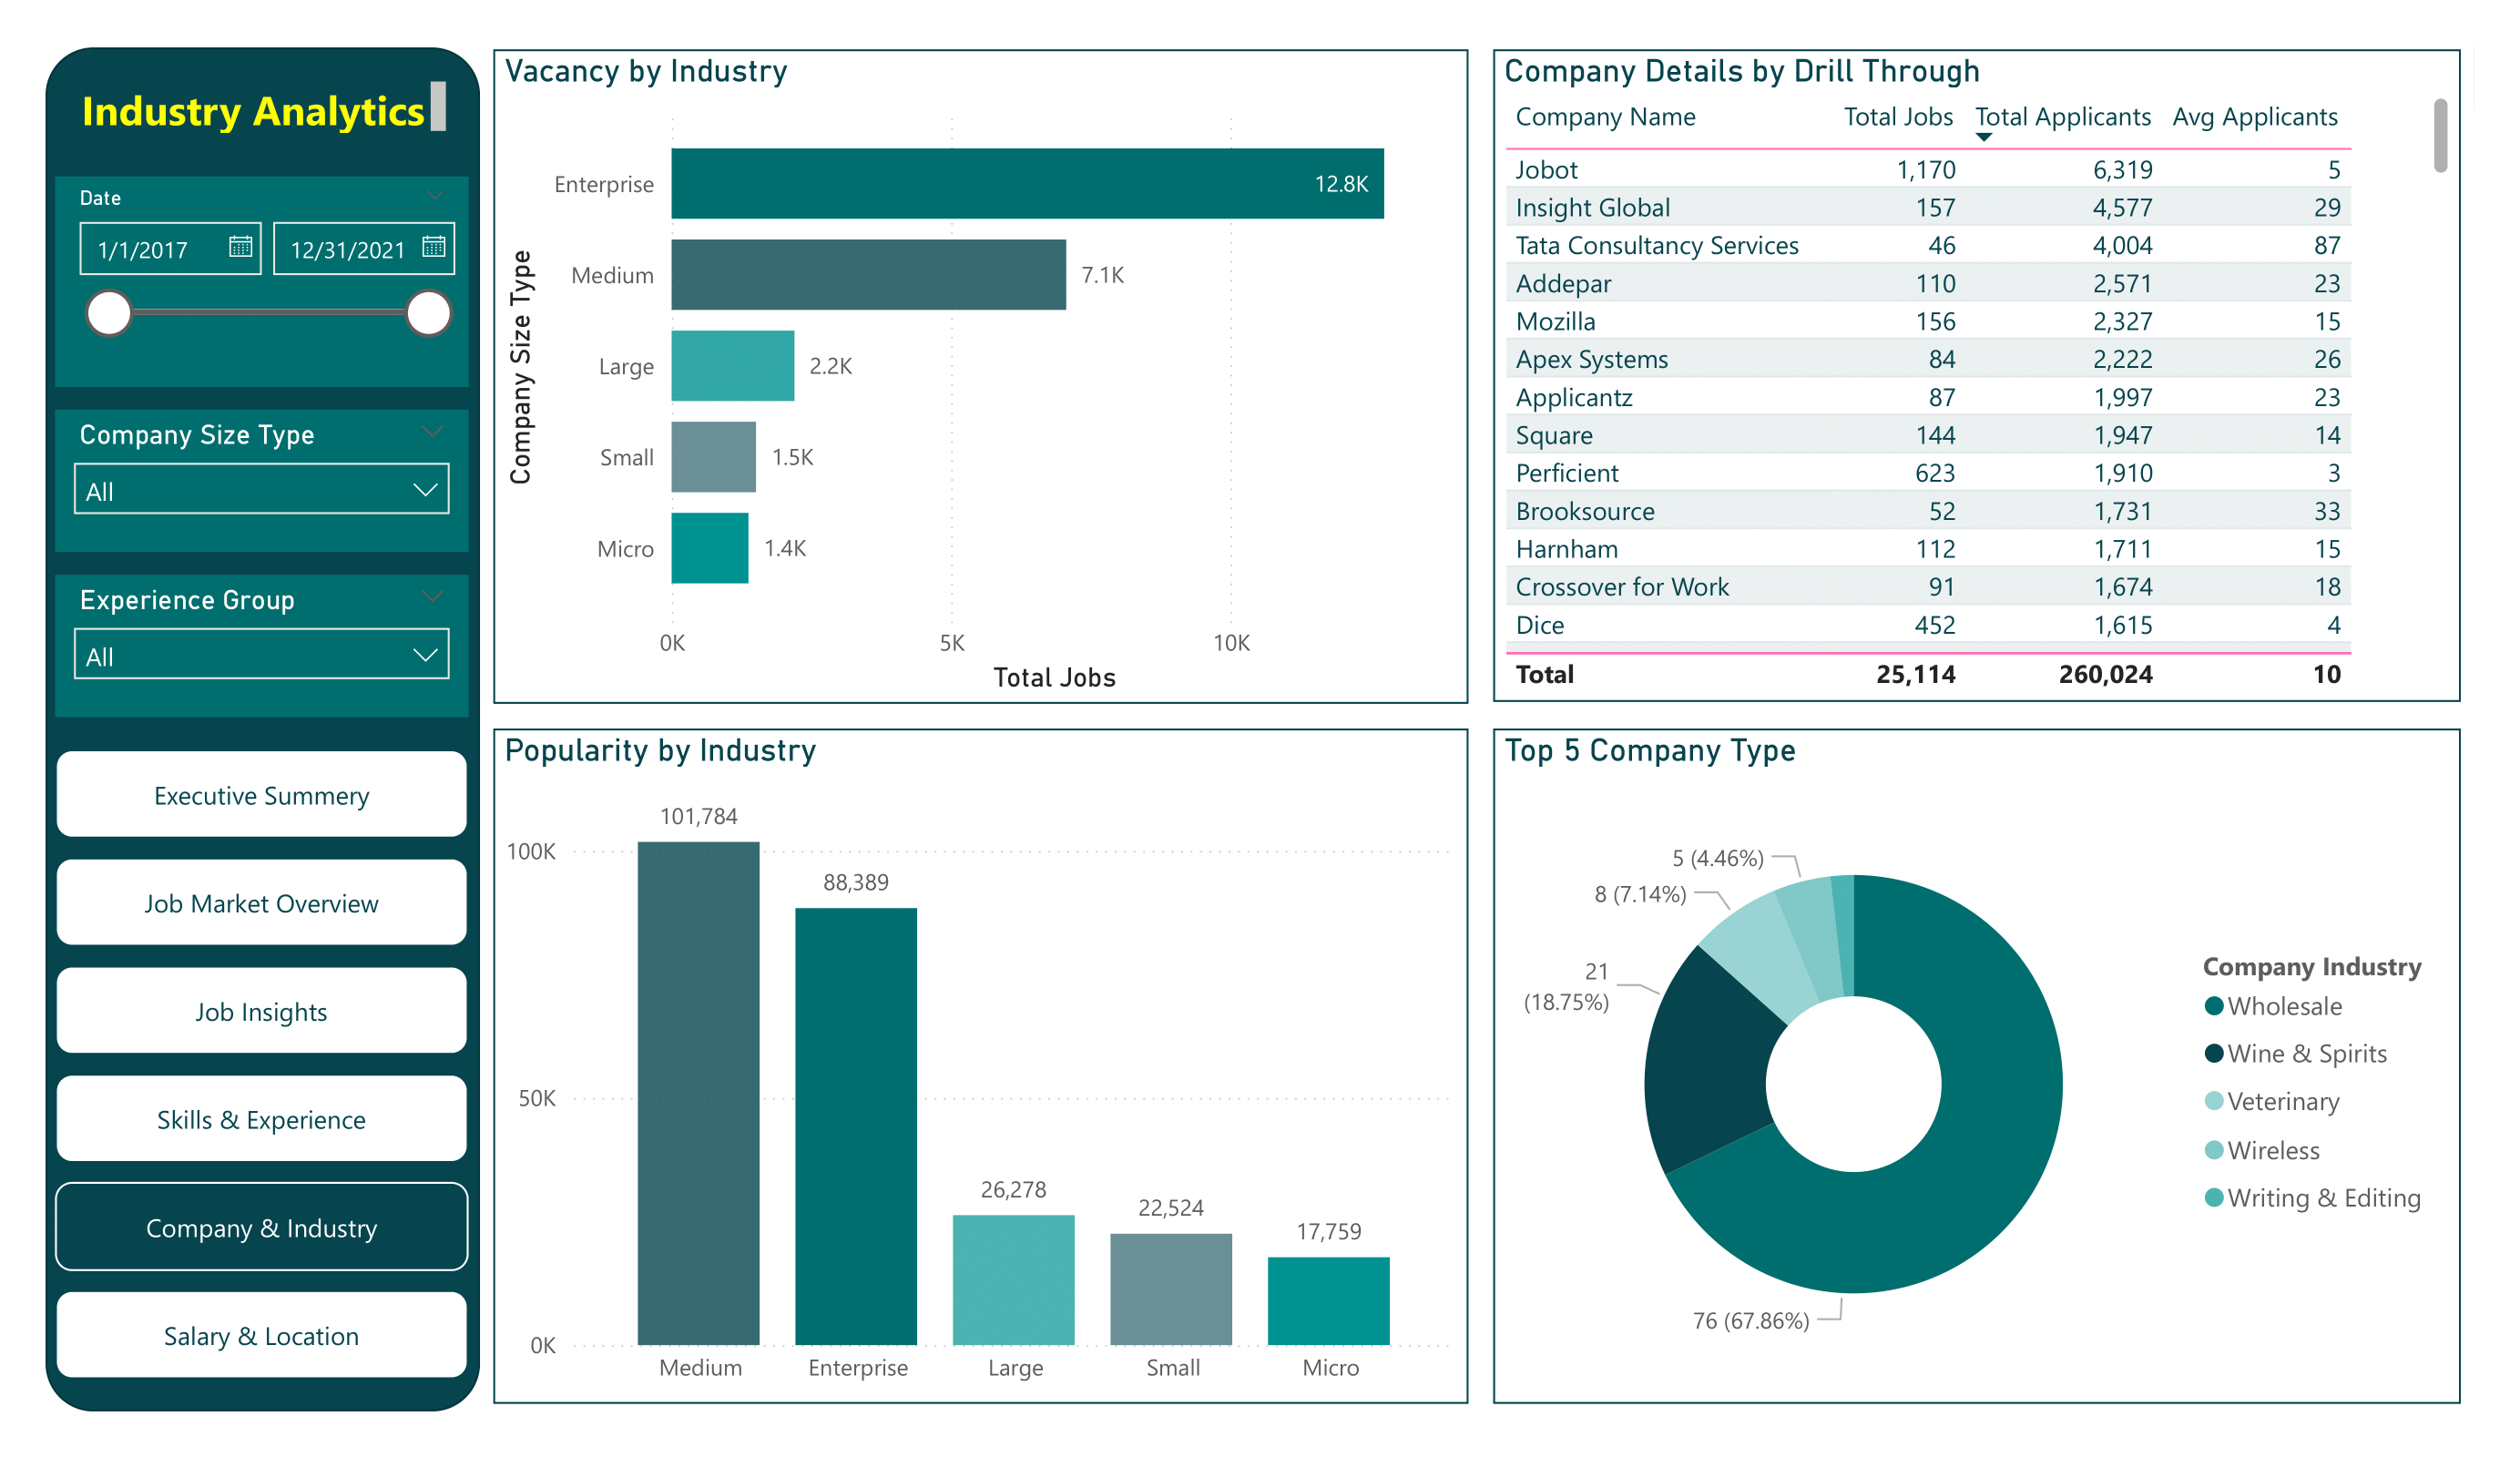

The page's visual inventory and layout, read from the dashboard file:
{"tool":"powerbi","page":{"name":"Company & Industry","canvas":[1280,720],"ordinal":4},"visuals":[{"type":"donutChart","title":"Top 5 Company Type","fields":{"Category":["job_postings.Company Industry"],"Y":["_Measure.Total Jobs"]},"box":[763.3,360,510,355.6],"z":1000},{"type":"barChart","title":"Vacancy by Industry","fields":{"Category":["job_postings.Company Type"],"Y":["_Measure.Total Jobs"]},"box":[235.6,2.2,514.4,344.4],"z":2000},{"type":"group","id":"g1","title":"Group 1","box":[0,0.8,229.1,719.1],"z":3000},{"type":"columnChart","title":"Popularity by Industry","fields":{"Category":["job_postings.Company Type"],"Y":["_Measure.Total Applicants"]},"box":[235.6,360,514.4,355.6],"z":4000},{"type":"tableEx","title":"Company Details by Drill Through","fields":{"Values":["job_postings.Company Name","_Measure.Total Jobs","_Measure.Total Applicants","_Measure.Avg Applicants"]},"box":[763,2.1,509.7,344.3],"z":5000},{"type":"shape","box":[0,0.8,229.1,719.1],"z":8000,"group":"g1"},{"type":"textbox","box":[10.9,13.5,205.5,37.3],"z":9000,"group":"g1"},{"type":"slicer","fields":{"Values":["DimDate.Date"]},"box":[5,68.8,217.7,110.9],"z":10000},{"type":"pageNavigator","box":[5,371.1,217.7,332.6],"z":11000},{"type":"slicer","fields":{"Values":["job_postings.Company Size Type"]},"box":[5.3,192,217.7,74.7],"z":12000},{"type":"slicer","fields":{"Values":["job_postings.Experience Group"]},"box":[5.3,279,217.7,74.7],"z":13000}]}

Visuals, with their boxes in screenshot pixels (x1, y1, x2, y2):
"Top 5 Company Type" donutChart: <bbox>1494, 728, 2462, 1403</bbox>
"Vacancy by Industry" barChart: <bbox>493, 50, 1469, 703</bbox>
"Group 1" group: <bbox>46, 47, 480, 1411</bbox>
"Popularity by Industry" columnChart: <bbox>493, 728, 1469, 1403</bbox>
"Company Details by Drill Through" tableEx: <bbox>1494, 49, 2461, 703</bbox>
shape: <bbox>46, 47, 480, 1411</bbox>
textbox: <bbox>66, 71, 456, 142</bbox>
slicer - DimDate.Date: <bbox>55, 176, 468, 386</bbox>
pageNavigator: <bbox>55, 749, 468, 1381</bbox>
slicer - job_postings.Company Size Type: <bbox>56, 410, 469, 552</bbox>
slicer - job_postings.Experience Group: <bbox>56, 575, 469, 717</bbox>
